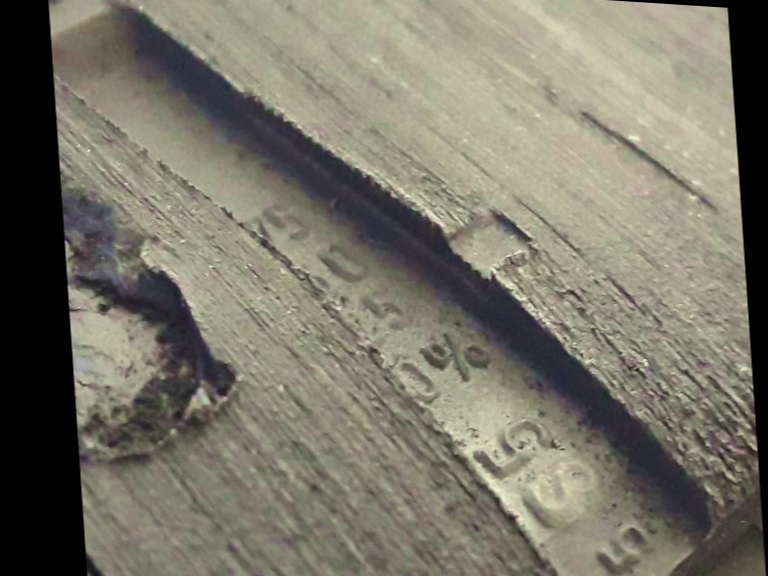temoin:0: (410, 174, 549, 315)
